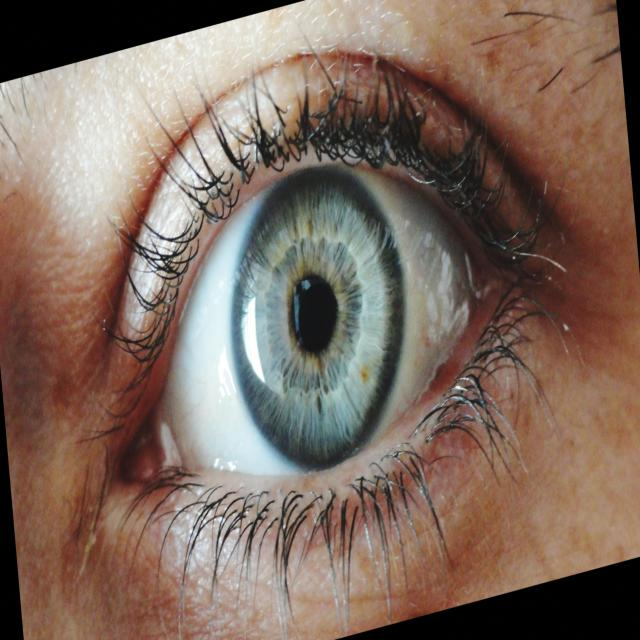Healthy-Eye: (117, 117, 518, 545)
